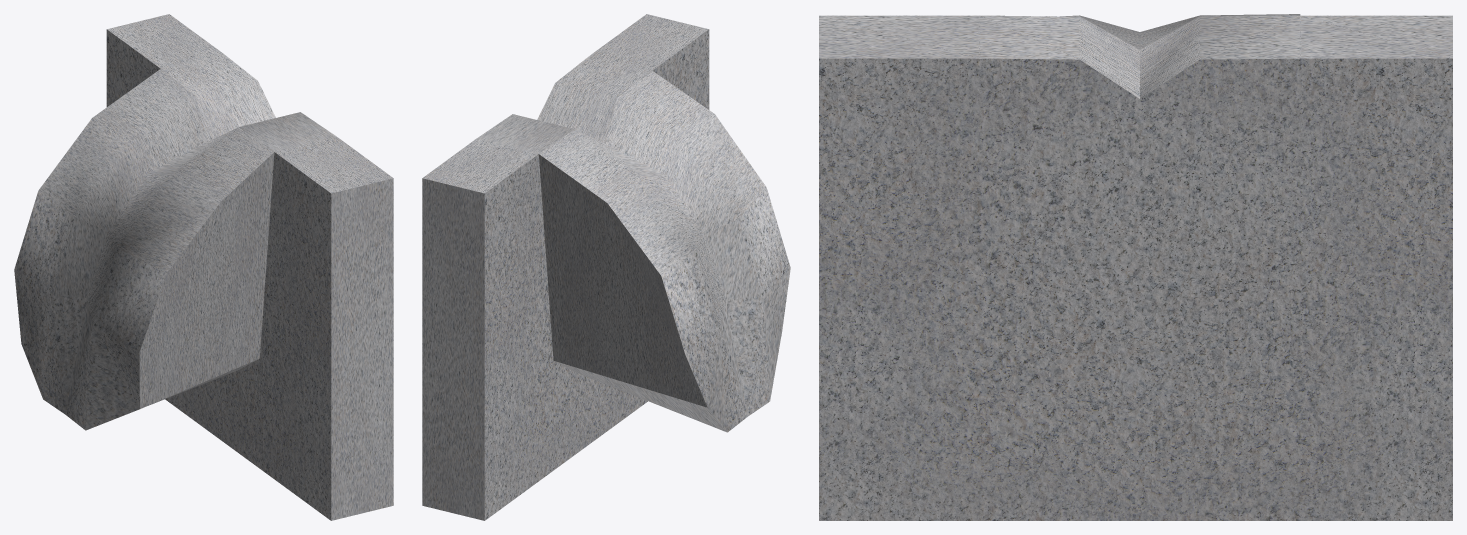
Rendered from SM_M_Stonewaterway.fbx.
The picture shows the model from 3 angles, left to right: view 1: azimuth 30°, elevation 25°; view 2: azimuth 150°, elevation 25°; view 3: azimuth 270°, elevation 25°; orthographic projection. The views are drawn at different scales.
Parts seen in each view (by area): view 1: SM_M_Stonewaterway; view 2: SM_M_Stonewaterway; view 3: SM_M_Stonewaterway.
Boxes of the visible parts, left/top/right/bottom form: SM_M_Stonewaterway: left=14, top=14, right=393, bottom=520; SM_M_Stonewaterway: left=422, top=14, right=790, bottom=520; SM_M_Stonewaterway: left=819, top=14, right=1452, bottom=520.
Bounding box in the file's own units: 35.32 × 63.37 × 51.01.
1 material, 1 textured.
